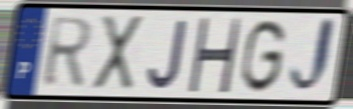G: (238, 17, 288, 96)
H: (185, 15, 244, 96)
J: (287, 14, 338, 100), (145, 17, 190, 92)
R: (40, 15, 96, 90)
X: (91, 14, 145, 94)
